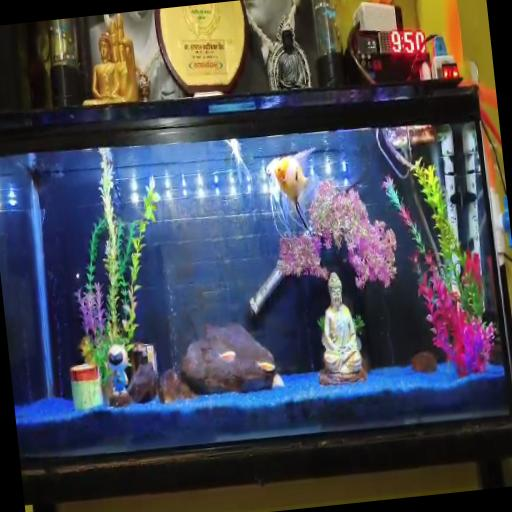Fish: (266, 148, 314, 232), (226, 140, 251, 184), (256, 361, 275, 372), (220, 351, 235, 362), (371, 0, 393, 5)
